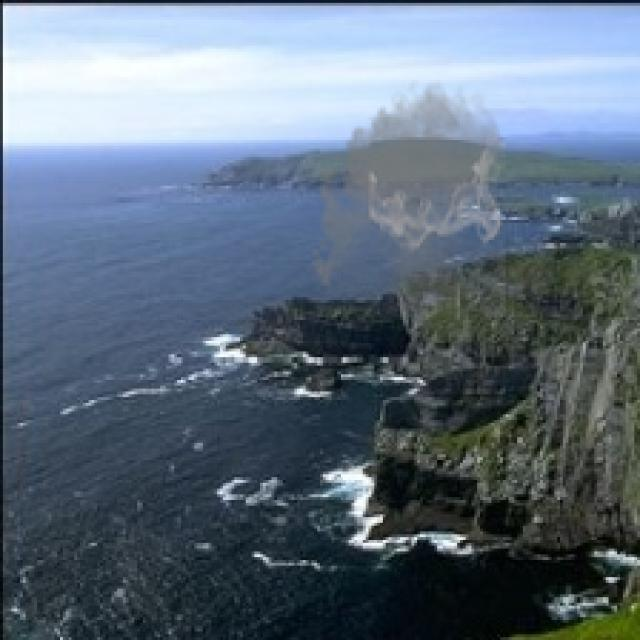smoke: (306, 72, 508, 317)
